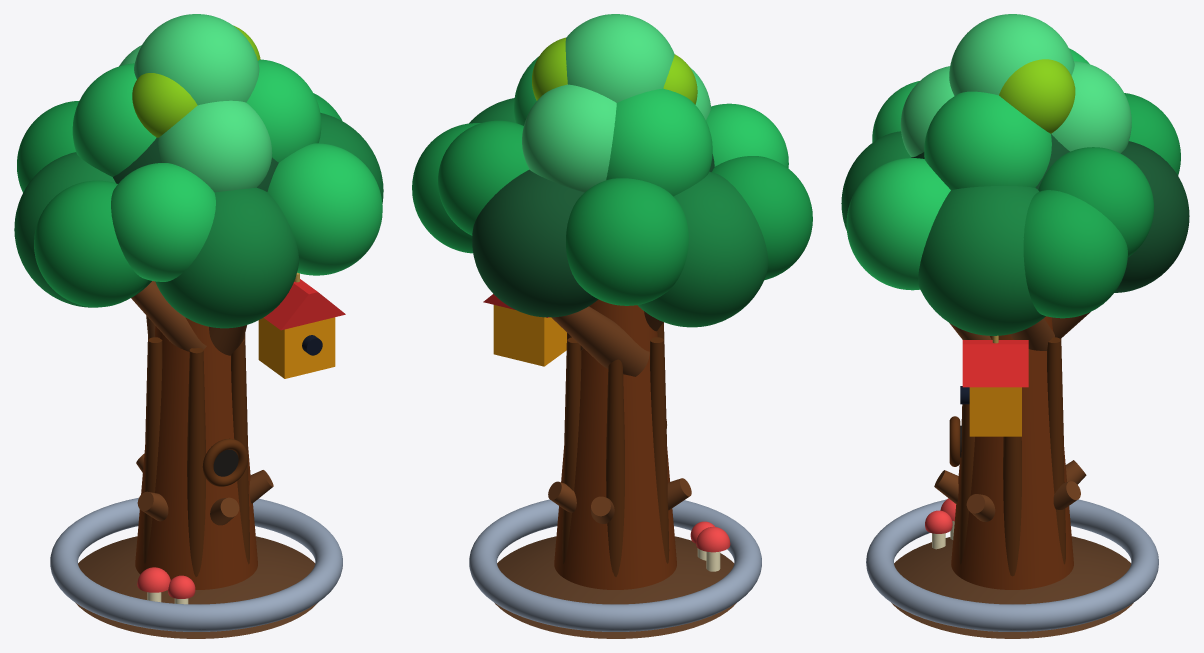
File: park_tree.glb
3 views of the same model, side by side, from view 1: azimuth 30°, elevation 25°; view 2: azimuth 150°, elevation 25°; view 3: azimuth 270°, elevation 25° (orthographic).
Visible parts, largest first — view 1: tr_trunk, tr_pit, tr_leaf_4, tr_leaf_8, tr_leaf_5, tr_leaf_9, tr_leaf_15, tr_soil, tr_leaf_14, tr_leaf_11, tr_leaf_12, tr_leaf_1 (+18 smaller); view 2: tr_trunk, tr_pit, tr_leaf_7, tr_leaf_3, tr_leaf_1, tr_leaf_11, tr_soil, tr_leaf_13, tr_leaf_15, tr_leaf_10, tr_leaf_5, tr_leaf_9 (+12 smaller); view 3: tr_leaf_2, tr_trunk, tr_pit, tr_leaf_6, tr_leaf_12, tr_leaf_8, tr_soil, tr_leaf_10, tr_leaf_15, tr_leaf_3, tr_leaf_13, tr_leaf_16 (+15 smaller).
Part boxes in pixels (x1=…): tr_trunk: x1=135, y1=317, x2=257, y2=589; tr_pit: x1=50, y1=497, x2=342, y2=631; tr_leaf_4: x1=155, y1=187, x2=298, y2=328; tr_leaf_8: x1=267, y1=143, x2=382, y2=275; tr_leaf_5: x1=34, y1=180, x2=148, y2=307; tr_leaf_9: x1=111, y1=163, x2=215, y2=281; tr_leaf_15: x1=134, y1=14, x2=259, y2=105; tr_soil: x1=76, y1=536, x2=317, y2=638; tr_leaf_14: x1=158, y1=100, x2=272, y2=192; tr_leaf_11: x1=72, y1=63, x2=156, y2=176; tr_leaf_12: x1=246, y1=59, x2=321, y2=162; tr_leaf_1: x1=14, y1=152, x2=151, y2=307; tr_trunk: x1=554, y1=299, x2=676, y2=589; tr_pit: x1=469, y1=499, x2=761, y2=631; tr_leaf_7: x1=566, y1=178, x2=688, y2=305; tr_leaf_3: x1=472, y1=169, x2=598, y2=317; tr_leaf_1: x1=637, y1=171, x2=768, y2=327; tr_leaf_11: x1=606, y1=88, x2=712, y2=196; tr_soil: x1=495, y1=536, x2=736, y2=638; tr_leaf_13: x1=522, y1=84, x2=616, y2=192; tr_leaf_15: x1=565, y1=14, x2=674, y2=102; tr_leaf_10: x1=438, y1=120, x2=529, y2=235; tr_leaf_5: x1=712, y1=156, x2=812, y2=280; tr_leaf_9: x1=706, y1=103, x2=788, y2=168; tr_leaf_2: x1=918, y1=186, x2=1045, y2=335; tr_trunk: x1=951, y1=316, x2=1073, y2=589; tr_pit: x1=866, y1=499, x2=1158, y2=631; tr_leaf_6: x1=1023, y1=190, x2=1127, y2=318; tr_leaf_12: x1=924, y1=91, x2=1051, y2=189; tr_leaf_8: x1=846, y1=158, x2=950, y2=290; tr_soil: x1=891, y1=536, x2=1133, y2=638; tr_leaf_10: x1=1038, y1=147, x2=1153, y2=257; tr_leaf_15: x1=949, y1=14, x2=1074, y2=95; tr_leaf_3: x1=1114, y1=141, x2=1189, y2=292; tr_leaf_13: x1=1051, y1=61, x2=1131, y2=153; tr_leaf_16: x1=999, y1=59, x2=1075, y2=133.
Bounding box in the file's own units: 0.5125 × 0.81 × 0.4525.
